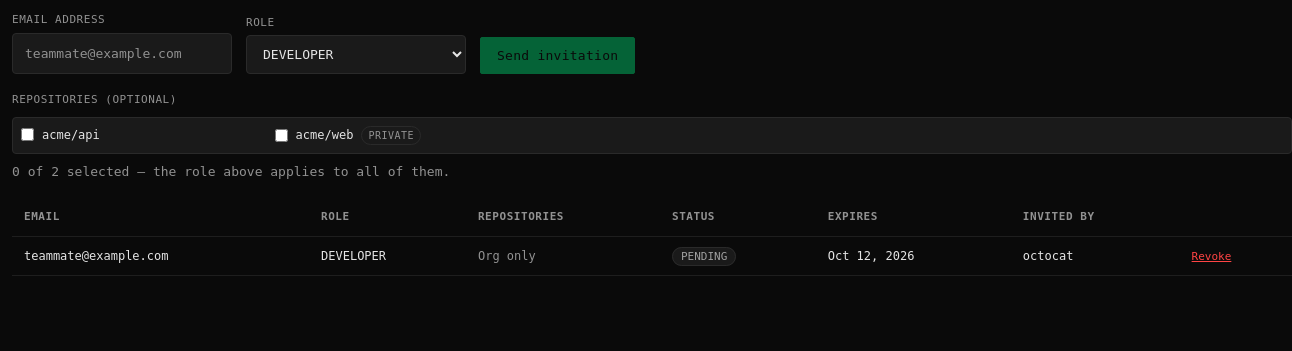
Test: OrgInvitationsComponent — invite form, list, revoke (plan Step 12) › surfaces the rate-limit message on 429
The width and height of the screenshot is (1292, 351).
In the field with test id "invite-email": [122, 53] box left=12, top=32, right=232, bottom=74, type "someone@example.com"
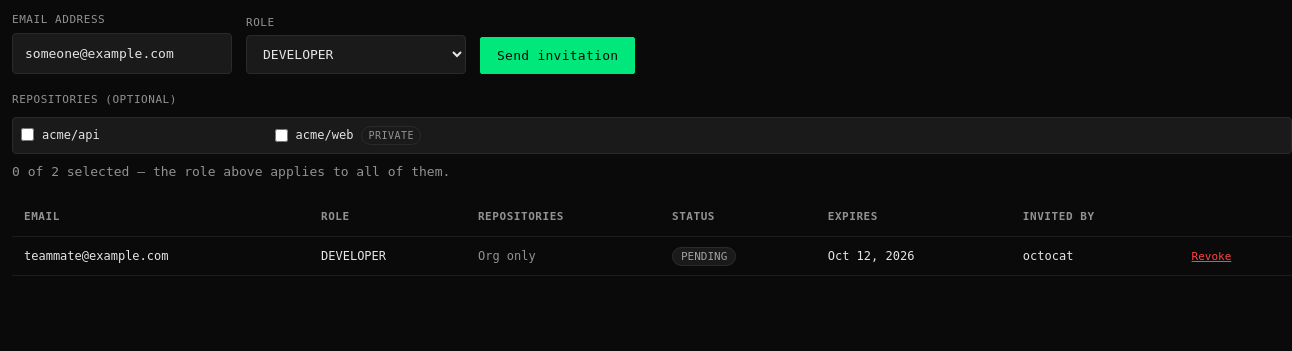
Click the button "Send invitation": [558, 55] box left=480, top=36, right=635, bottom=74
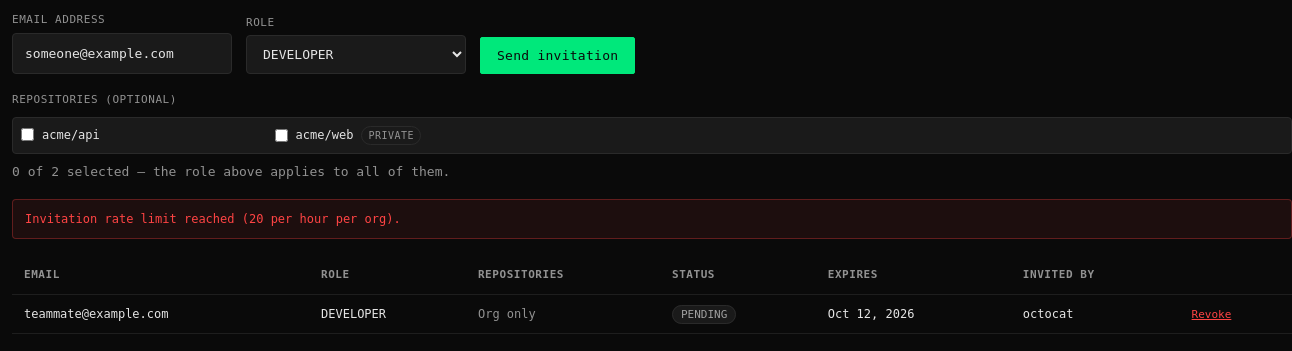
Now the text "rate limit" is shown, box left=25, top=212, right=401, bottom=226
